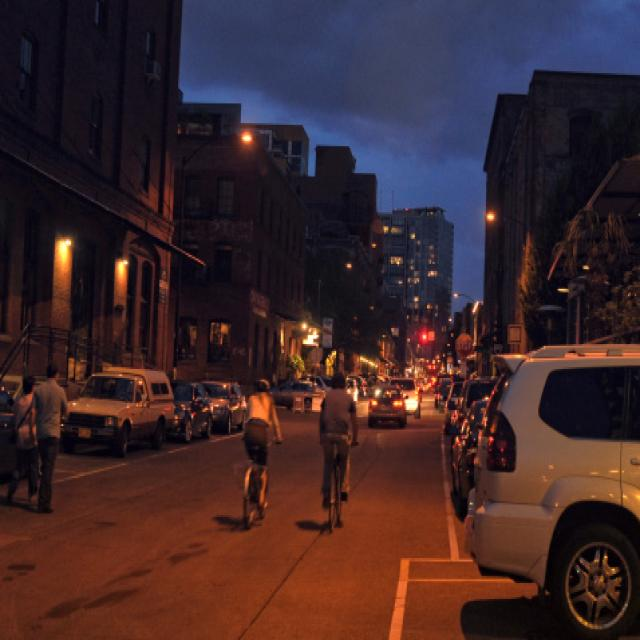Bicycle: (232, 451, 293, 523), (315, 451, 368, 533)
People: (0, 350, 48, 502), (318, 338, 359, 462), (33, 364, 68, 503), (239, 365, 281, 451)
car: (499, 335, 640, 631), (71, 331, 167, 465), (434, 329, 507, 476), (151, 343, 215, 448), (367, 364, 411, 451), (282, 357, 321, 425), (215, 358, 240, 436)
